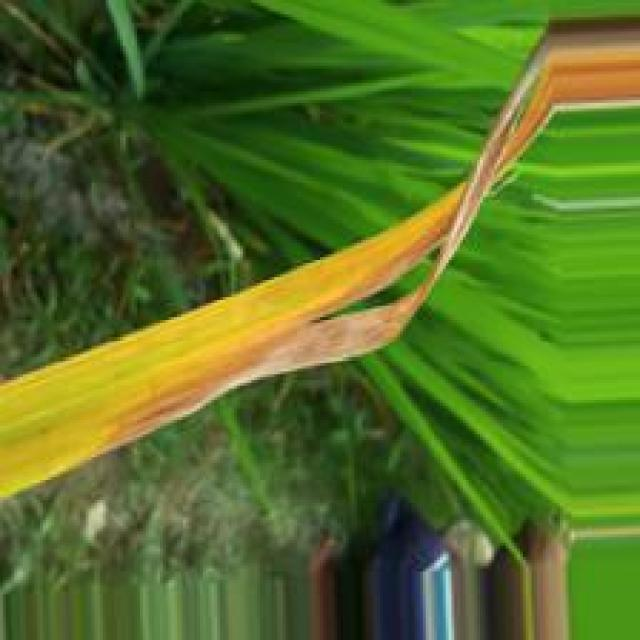Leaf_Scald: (182, 41, 542, 422), (353, 218, 451, 296)
